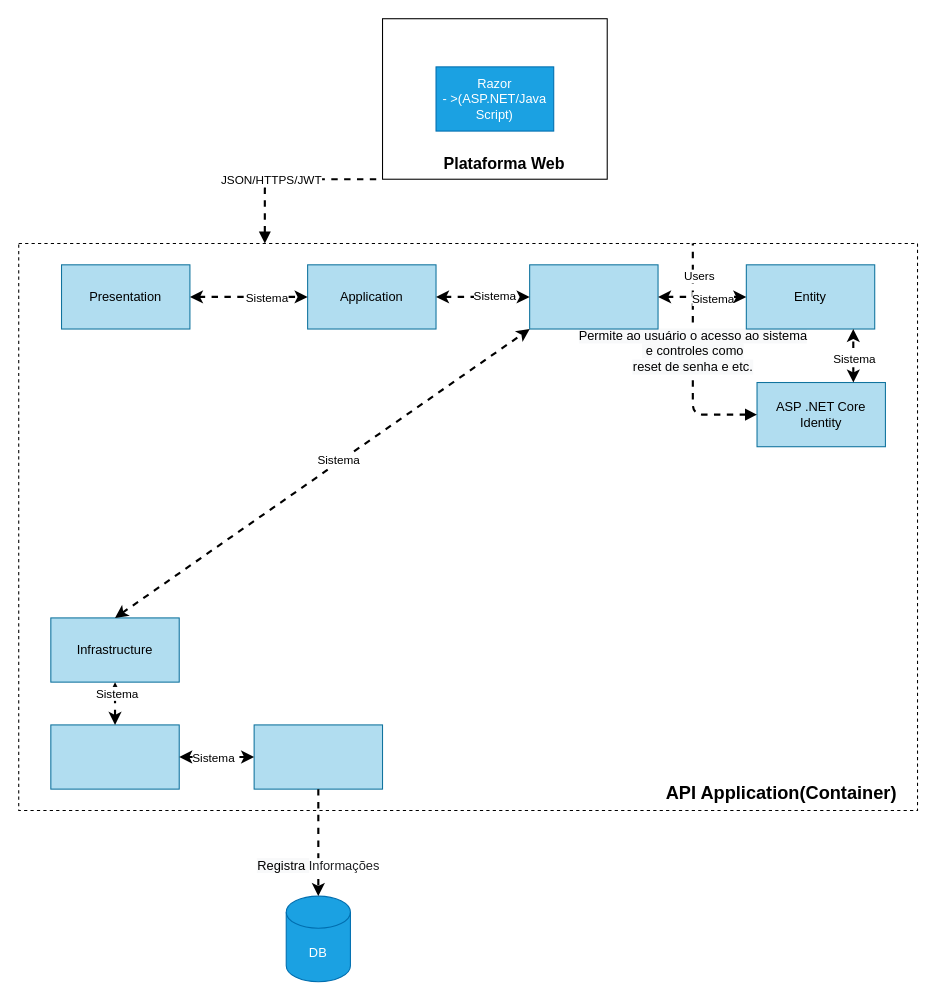
Some shapes in this 936 by 1000 pixel diagram are drawn without their labels. The centre of each missing label's shape, as x and y in pixels:
Config: point (114, 756)
Domain: point (593, 296)
Repository: point (318, 756)
